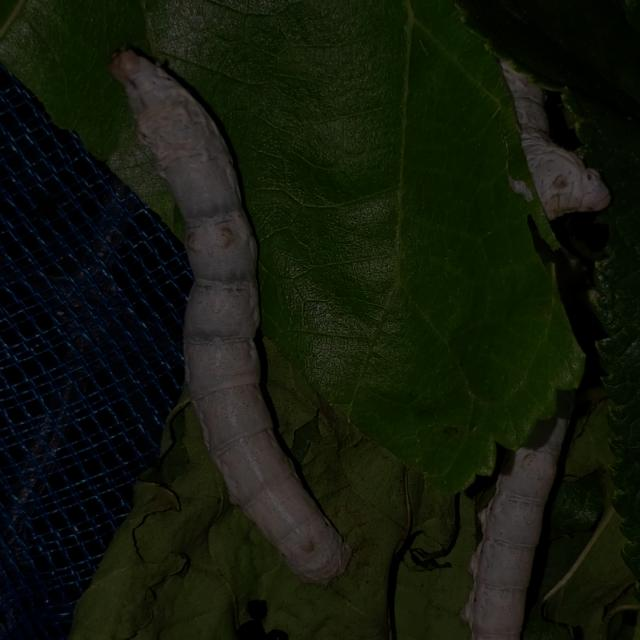Healthy: (88, 14, 400, 606)
